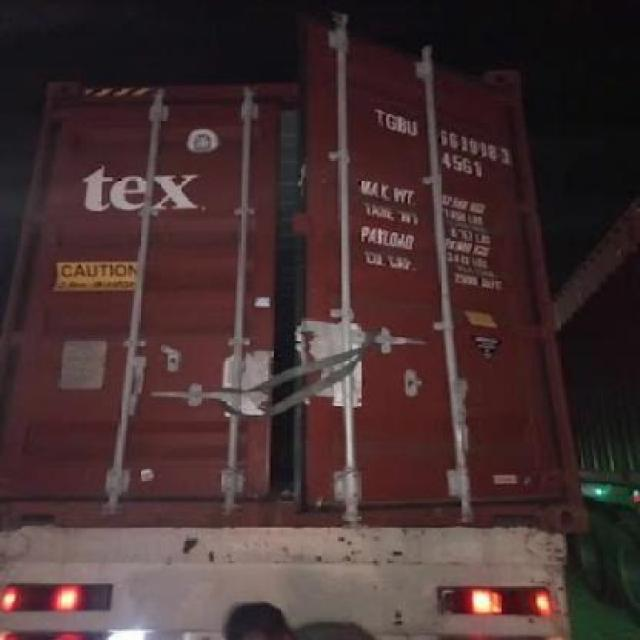ISO: (442, 153, 486, 175)
container_number: (368, 94, 521, 168)
